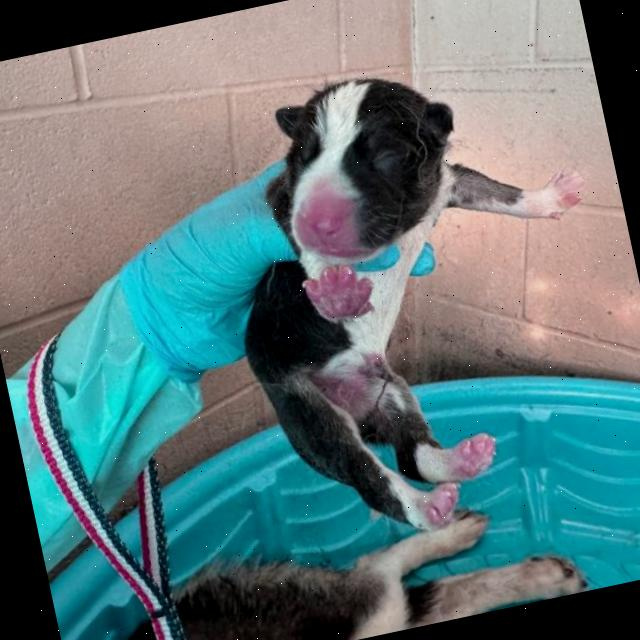siberian_husky_dog: (236, 48, 492, 282)
